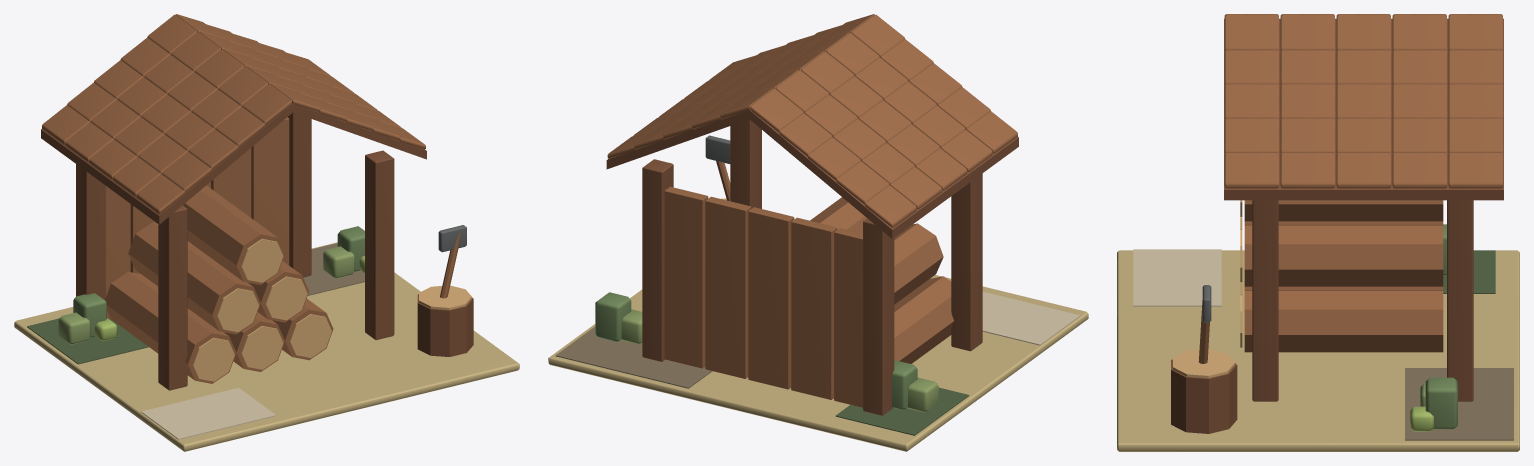
File: lumber.glb
3 renders of one model, left to right at view 1: azimuth 30°, elevation 25°; view 2: azimuth 150°, elevation 25°; view 3: azimuth 270°, elevation 25°, orthographic. The views are drawn at different scales.
Parts seen in each view (by area): view 1: lumber; view 2: lumber; view 3: lumber.
Boxes of the visible parts, x1,y1,x2,y2 form: lumber: [14, 14, 519, 451]; lumber: [548, 14, 1088, 451]; lumber: [1117, 14, 1519, 451].
Size of the model in its own units: 2.43 by 1.94 by 2.13.
